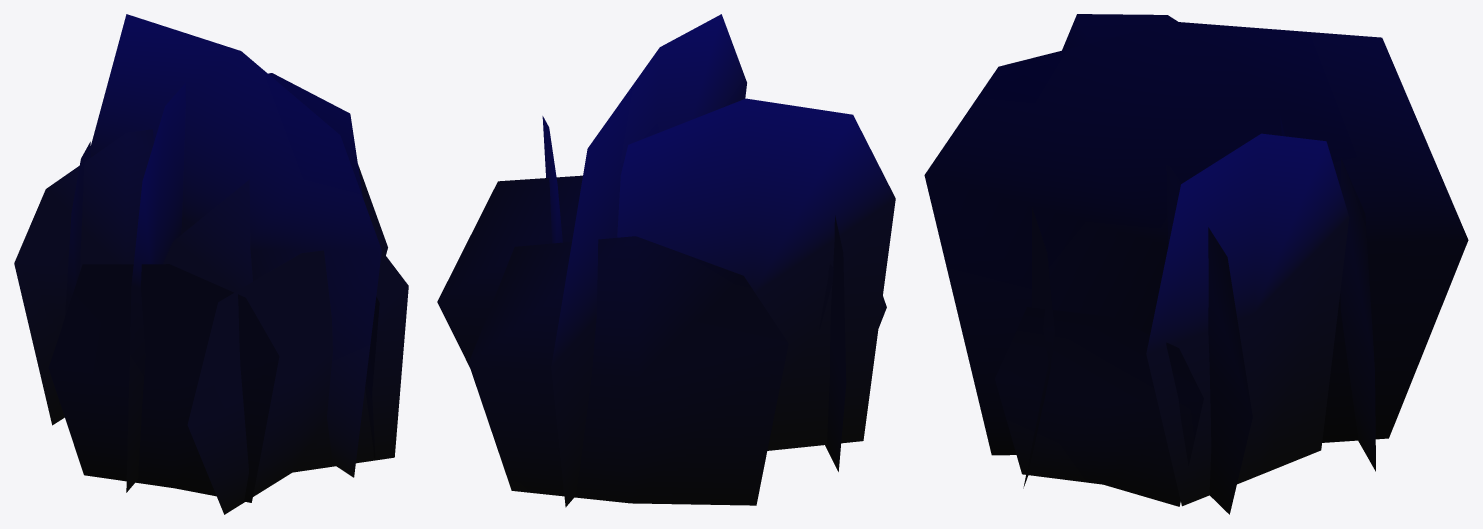
Rendered from SM_Grass_M_Patch_M_04.fbx.
3 renders of one model, left to right at view 1: azimuth 30°, elevation 25°; view 2: azimuth 150°, elevation 25°; view 3: azimuth 270°, elevation 25°, orthographic. The views are drawn at different scales.
Visible parts, largest first — view 1: SM_Grass_M_Patch_M_04; view 2: SM_Grass_M_Patch_M_04; view 3: SM_Grass_M_Patch_M_04.
Part boxes in pixels (<box>): SM_Grass_M_Patch_M_04: <box>14,14,408,514</box>; SM_Grass_M_Patch_M_04: <box>437,14,895,507</box>; SM_Grass_M_Patch_M_04: <box>924,14,1468,514</box>.
Bounding box in the file's own units: 142 × 163 × 142.
